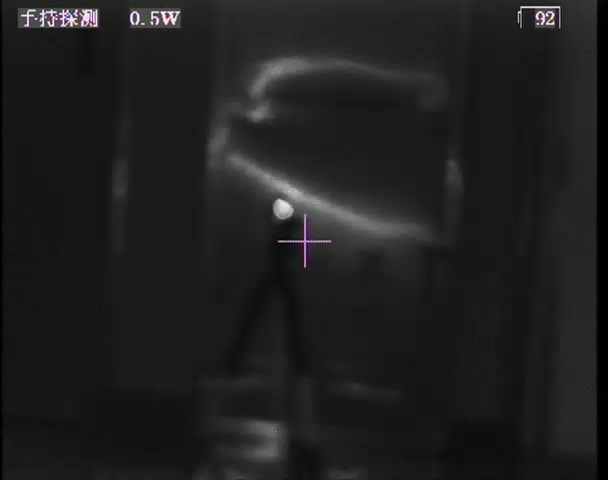my: (270, 195, 296, 223)
